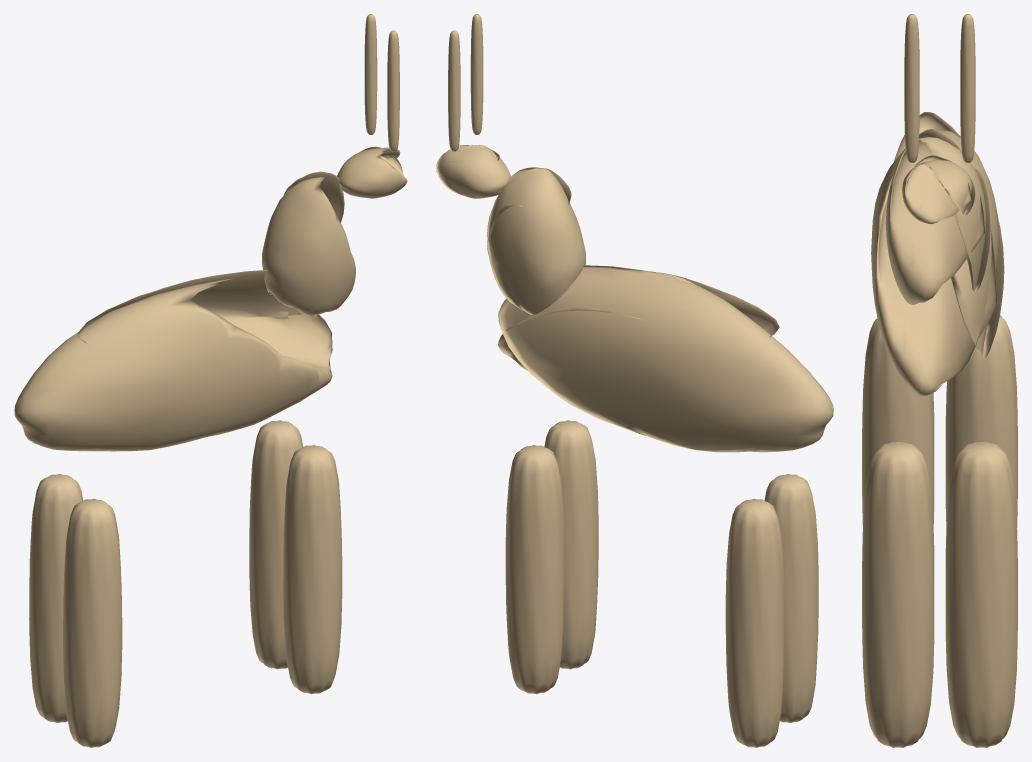
File: animal-gazelle.glb
3 views of the same model, side by side, from view 1: azimuth 30°, elevation 25°; view 2: azimuth 150°, elevation 25°; view 3: azimuth 270°, elevation 25° (orthographic). The views are drawn at different scales.
Visible parts, largest first — view 1: animal-gazelle; view 2: animal-gazelle; view 3: animal-gazelle.
Part boxes in pixels (<box>): animal-gazelle: <box>14,14,407,747</box>; animal-gazelle: <box>436,14,833,747</box>; animal-gazelle: <box>862,14,1017,747</box>.
Bounding box in the file's own units: 1.19 × 1.85 × 0.3347.
